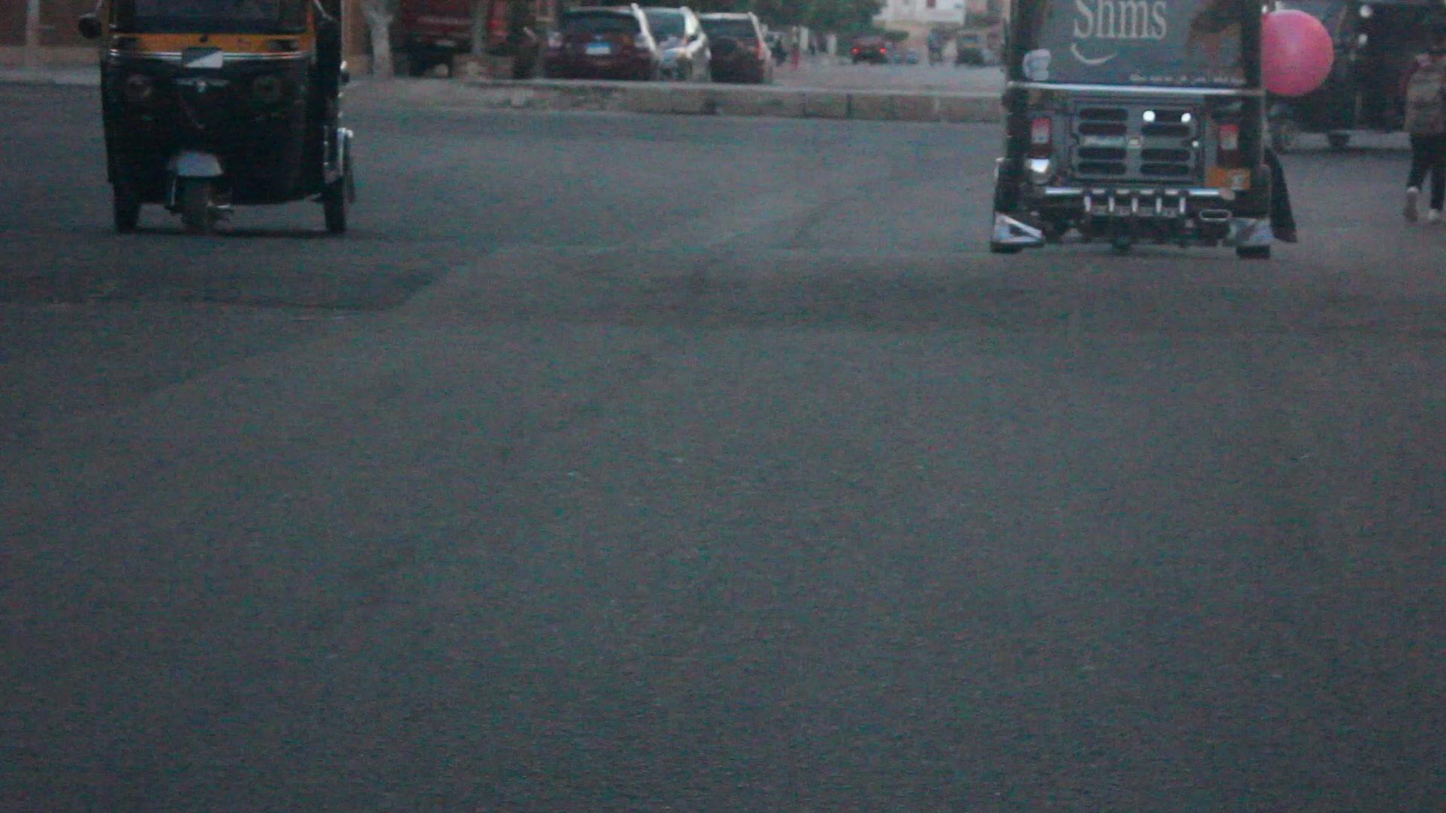Bump: (19, 226, 1446, 337)
